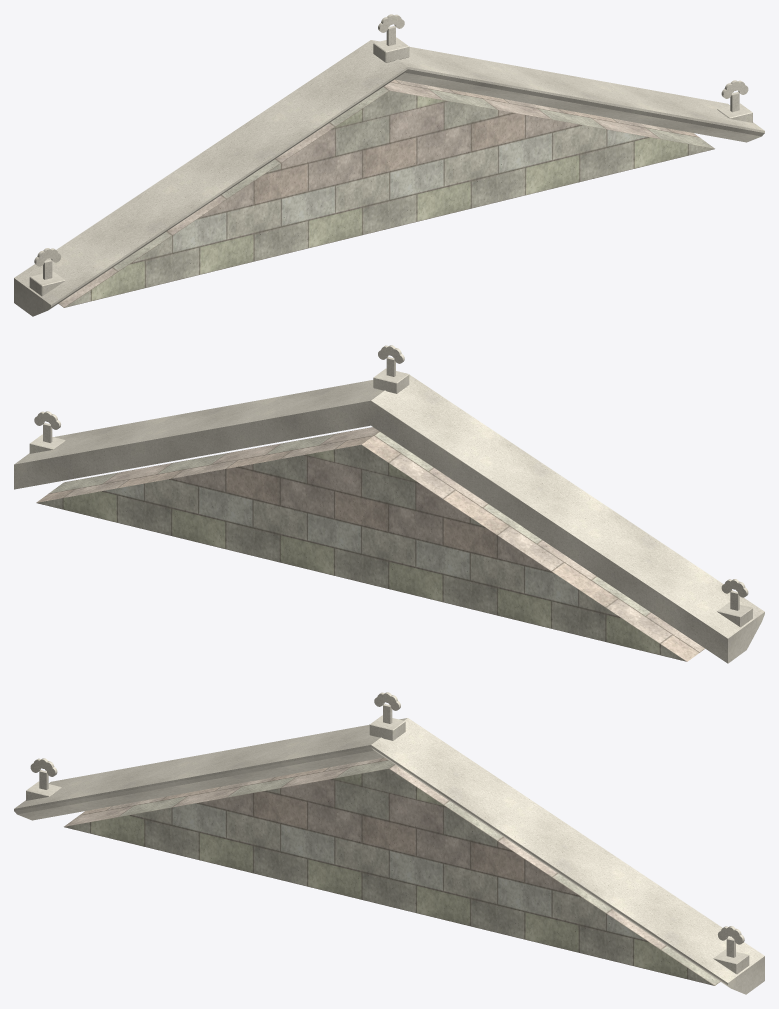
File: pediment_back.glb
3 views of the same model, one above another, from view 1: azimuth 30°, elevation 25°; view 2: azimuth 150°, elevation 25°; view 3: azimuth 330°, elevation 25° (orthographic).
Parts seen in each view (by area): view 1: pediment_back_stone, pediment_back_carve; view 2: pediment_back_stone, pediment_back_carve; view 3: pediment_back_stone, pediment_back_carve.
Boxes of the visible parts, x1,y1,x2,y2 form: pediment_back_stone: (58,79,714,307); pediment_back_carve: (14,14,764,316); pediment_back_stone: (36,427,704,661); pediment_back_carve: (14,345,764,663); pediment_back_stone: (64,757,720,985); pediment_back_carve: (14,692,764,994).
Size of the model in its own units: 13.15 by 3.8 by 1.48.
Materials: 2 (2 with a texture image).
